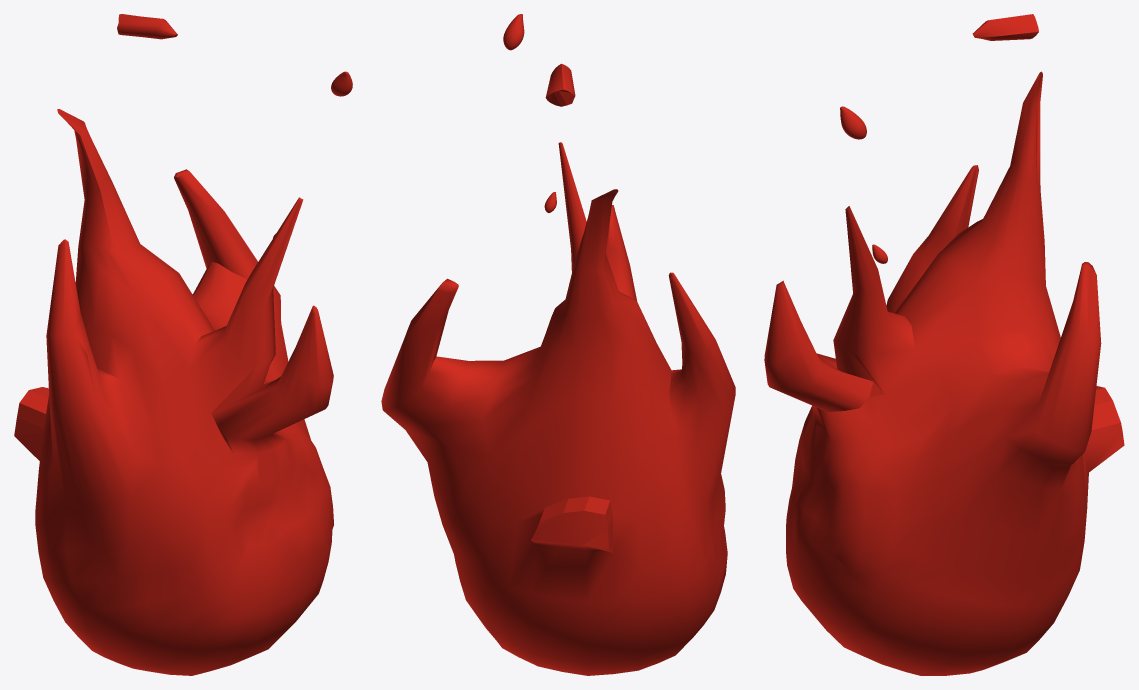
3 views of the same model, side by side, from view 1: azimuth 30°, elevation 25°; view 2: azimuth 150°, elevation 25°; view 3: azimuth 270°, elevation 25° (orthographic). The views are drawn at different scales.
Parts seen in each view (by area): view 1: fire_outer, fire_sparks; view 2: fire_outer, fire_sparks; view 3: fire_outer, fire_sparks.
Boxes of the visible parts, left/top/right/bottom form: fire_outer: left=14, top=109, right=333, bottom=675; fire_sparks: left=117, top=14, right=352, bottom=237; fire_outer: left=381, top=142, right=735, bottom=675; fire_sparks: left=503, top=14, right=575, bottom=212; fire_outer: left=764, top=71, right=1124, bottom=675; fire_sparks: left=840, top=14, right=1038, bottom=263.
Bounding box in the file's own units: 23.28 × 24.45 × 48.39.
